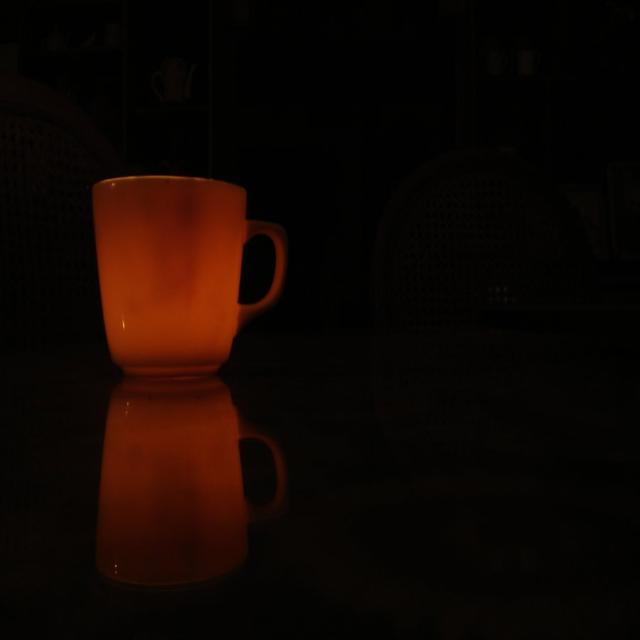Cup: (91, 141, 285, 398)
